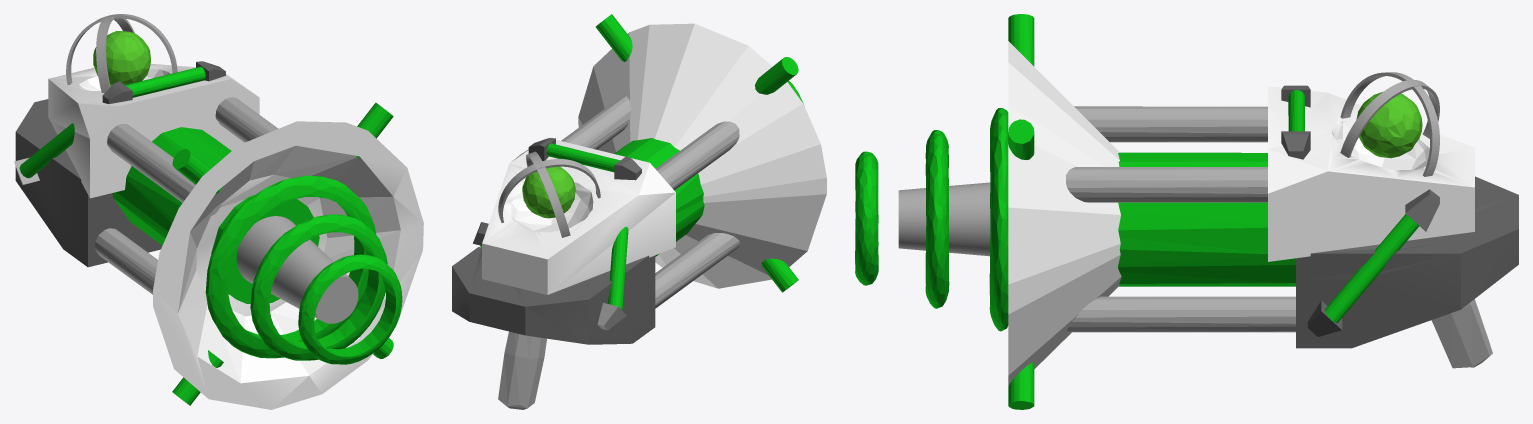
The model's file is SoundGun_NoSpec.fbx.
3 renders of one model, left to right at view 1: azimuth 30°, elevation 25°; view 2: azimuth 150°, elevation 25°; view 3: azimuth 270°, elevation 25°, orthographic. The views are drawn at different scales.
Visible parts, largest first — view 1: default; view 2: default; view 3: default.
Part boxes in pixels (x1,y1,x2,y2): default: [14, 14, 423, 409]; default: [452, 14, 826, 409]; default: [855, 14, 1518, 409].
Size of the model in its own units: 39.92 by 39.8 by 74.25.
